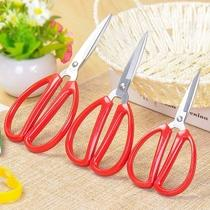scissor: (3, 13, 113, 154), (65, 30, 149, 177), (127, 65, 201, 196)
